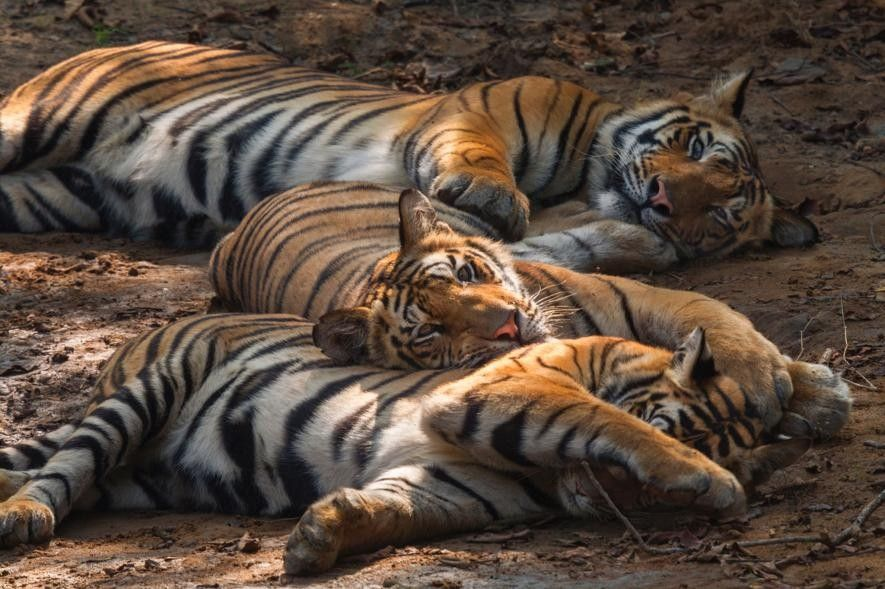Tigrew: (1, 25, 806, 271), (34, 324, 827, 561), (206, 190, 589, 372)
